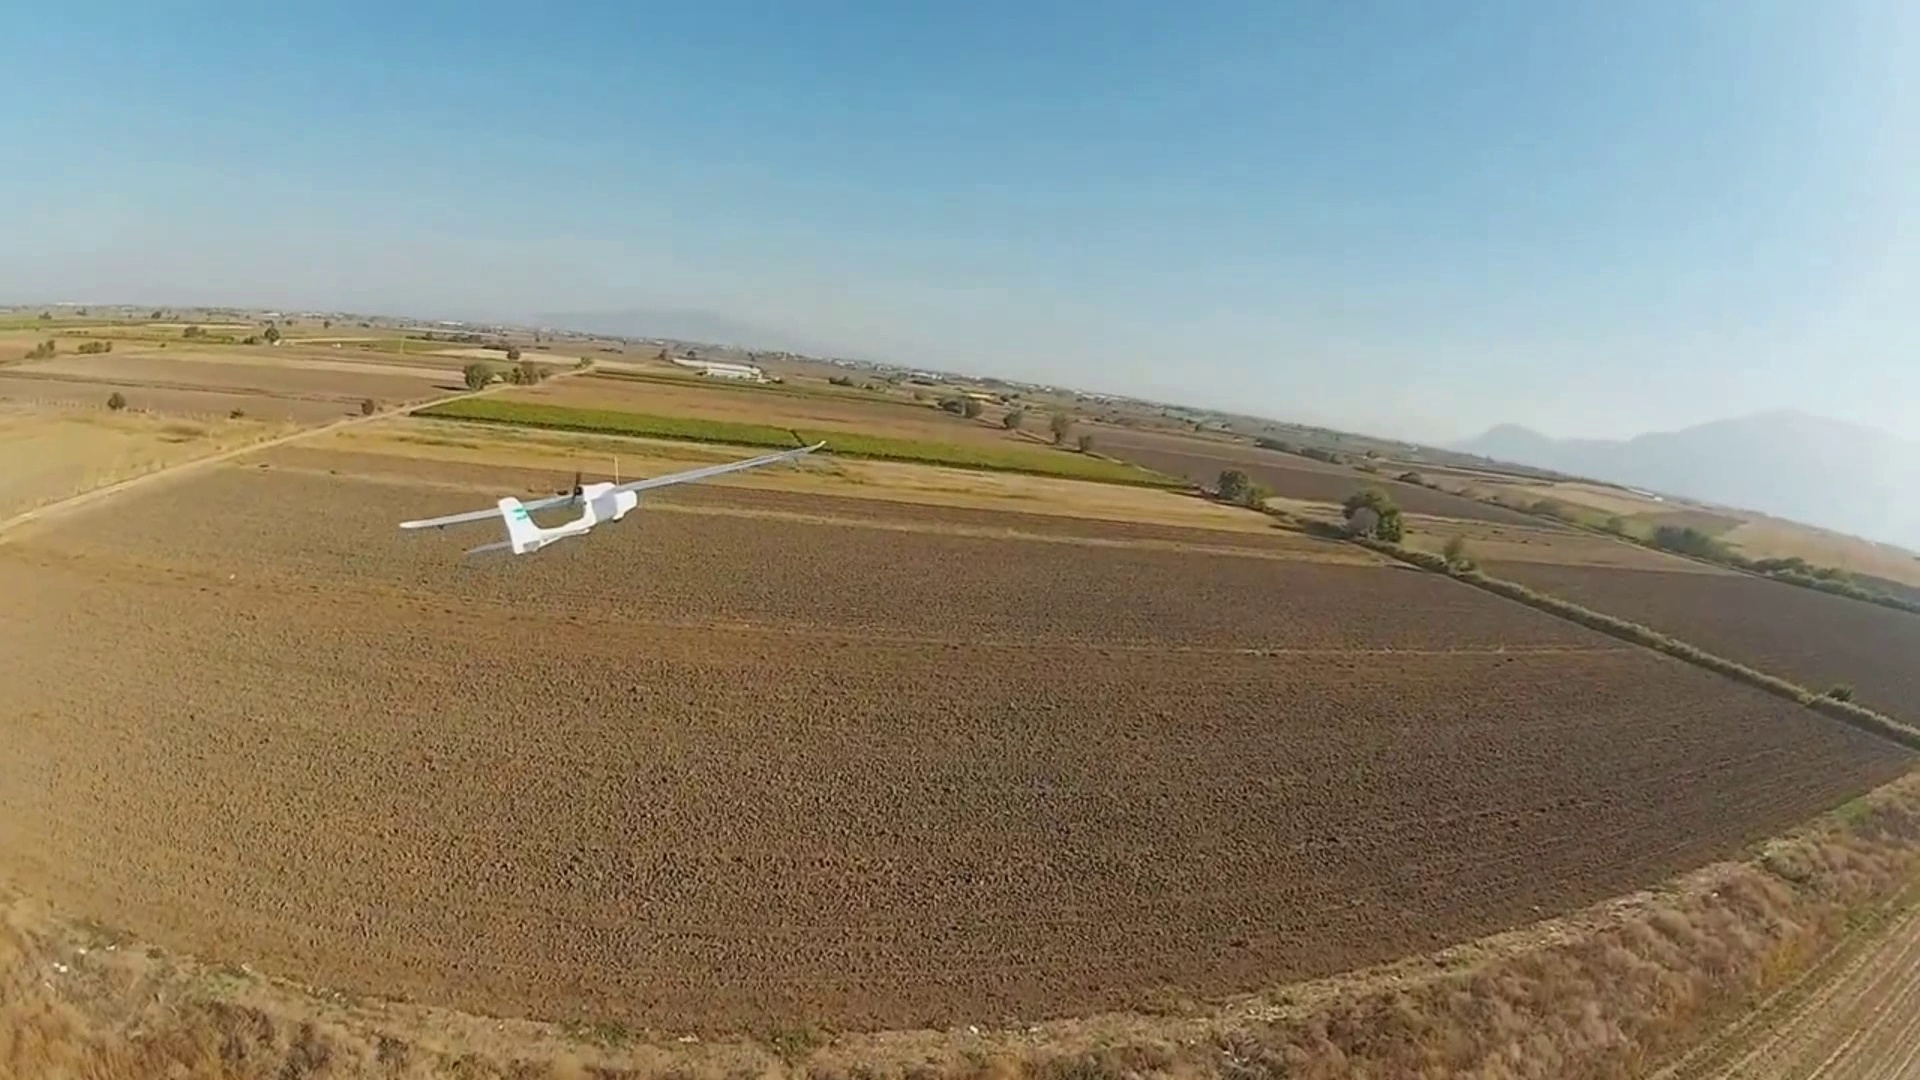airplane: (396, 444, 825, 560)
